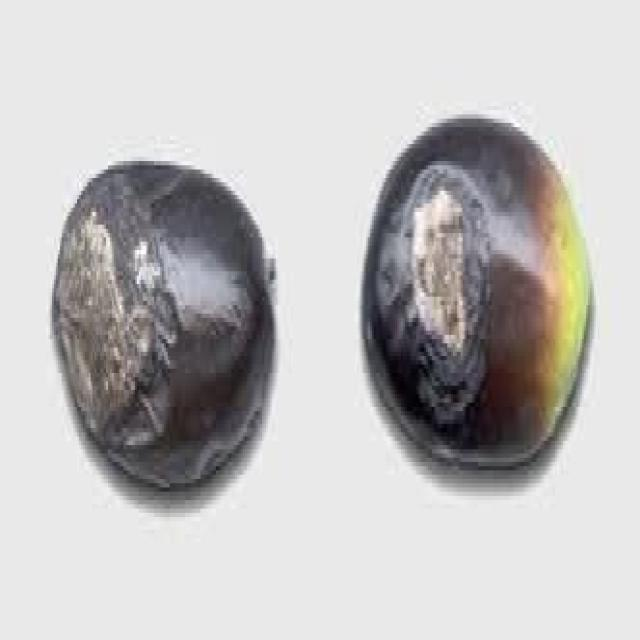Anthracnose: (362, 119, 590, 479), (52, 162, 270, 508)
